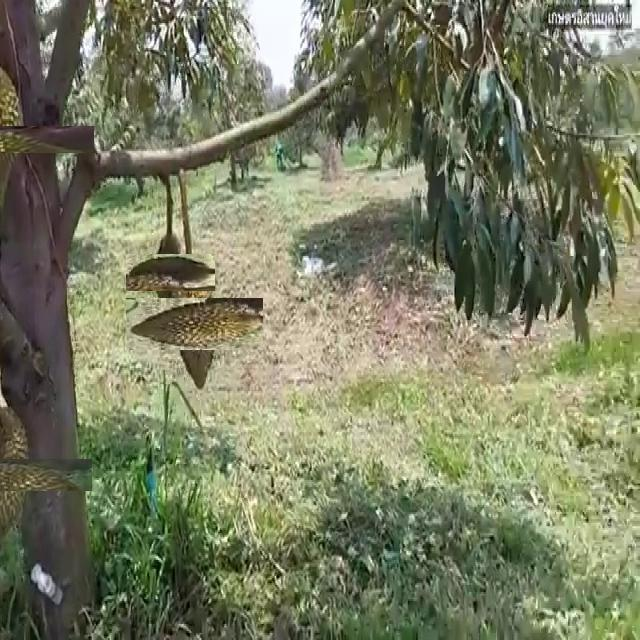durian: (147, 277, 242, 372), (0, 428, 62, 520), (0, 91, 60, 186), (139, 241, 202, 305)
